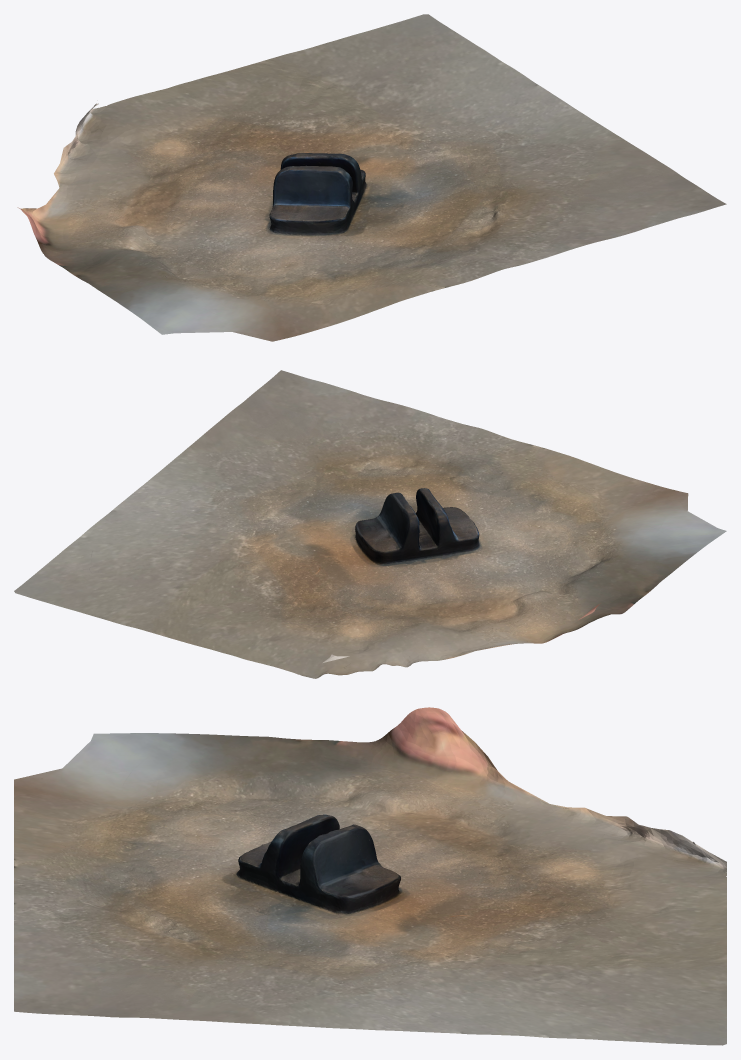
Rendered from polycam-2026-09-24.glb.
3 views of the same model, one above another, from view 1: azimuth 30°, elevation 25°; view 2: azimuth 150°, elevation 25°; view 3: azimuth 270°, elevation 25° (orthographic). The views are drawn at different scales.
Size of the model in its own units: 1.96 by 0.2294 by 1.92.
Materials: 1 (1 with a texture image).
